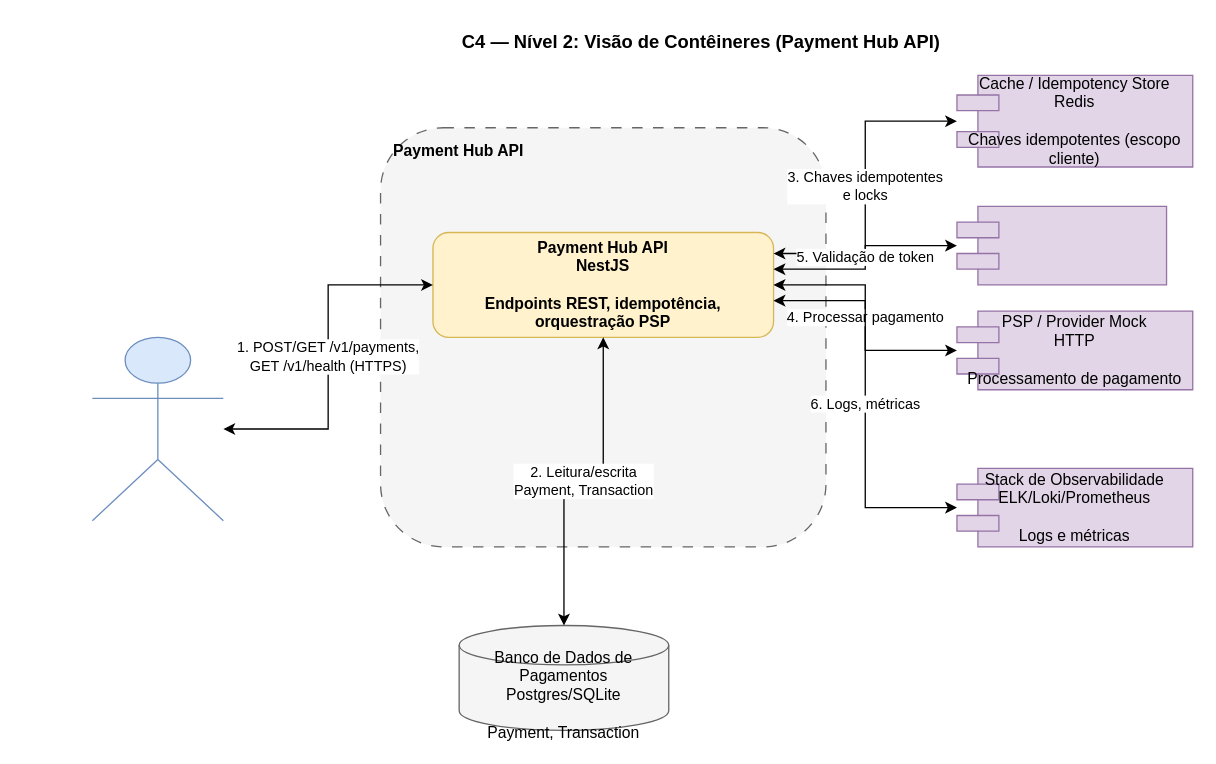
Some shapes in this 1216 by 764 pixel diagram are drawn without their labels. The centre of each missing label's shape, as x and y in pixels:
Cliente da API E-commerce, BFF, serviços internos: the point at 157,428
Provider de Identidade / Auth OAuth2/JWT Validação de tokens: the point at 1061,245
